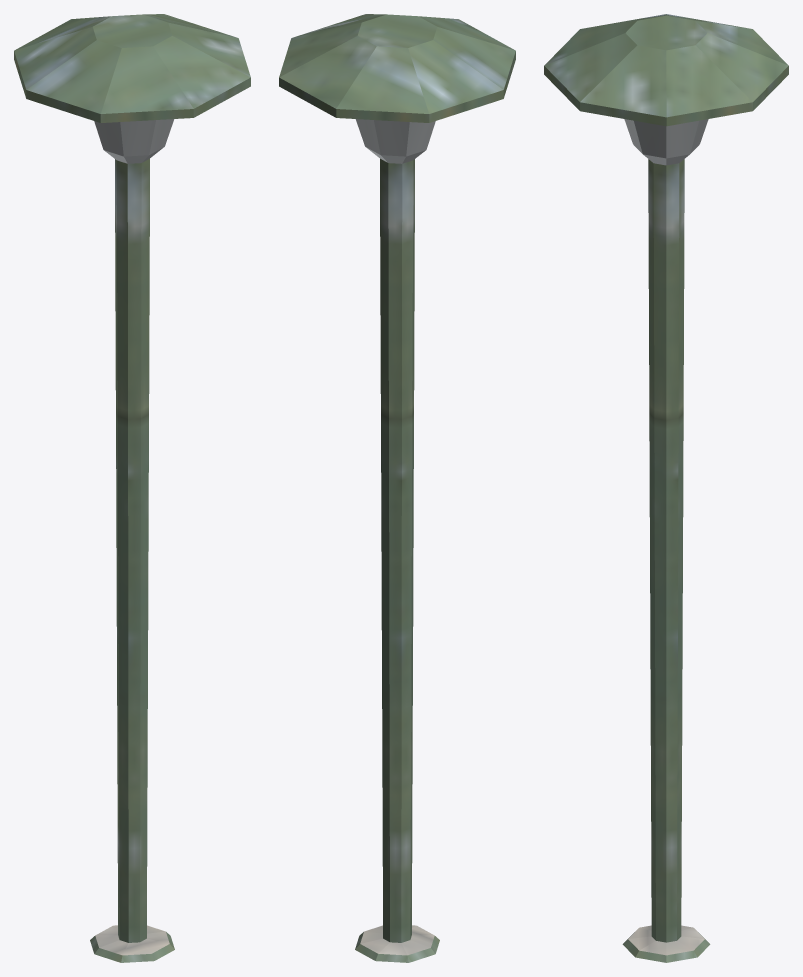
The model's file is StreetLamp.fbx.
The picture shows the model from 3 angles, left to right: view 1: azimuth 30°, elevation 25°; view 2: azimuth 150°, elevation 25°; view 3: azimuth 270°, elevation 25°; orthographic projection.
Parts seen in each view (by area): view 1: StreetLamp; view 2: StreetLamp; view 3: StreetLamp.
Part boxes in pixels (x1,y1,x2,y2): StreetLamp: (14,14,250,962); StreetLamp: (279,14,515,962); StreetLamp: (544,14,788,962).
Bounding box in the file's own units: 96.02 × 96.02 × 395.
